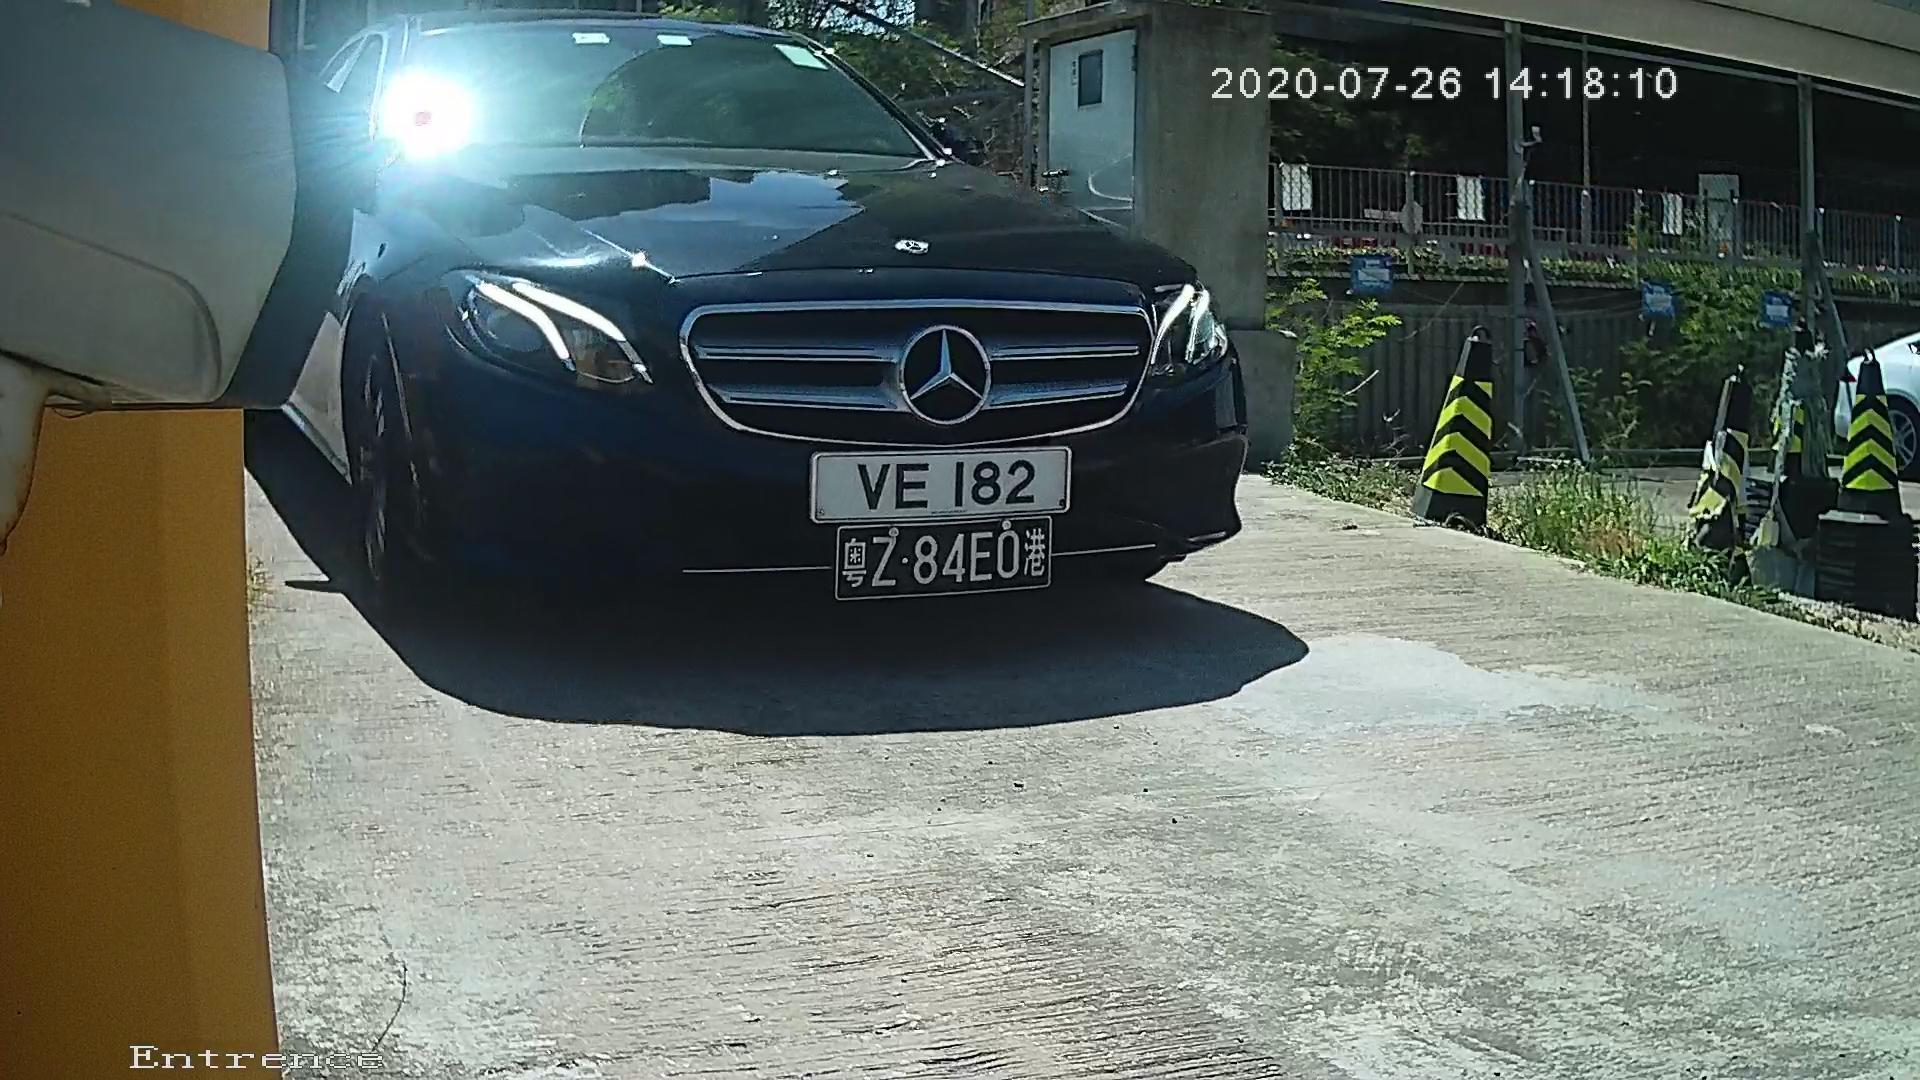privatecar: (276, 5, 1269, 695)
